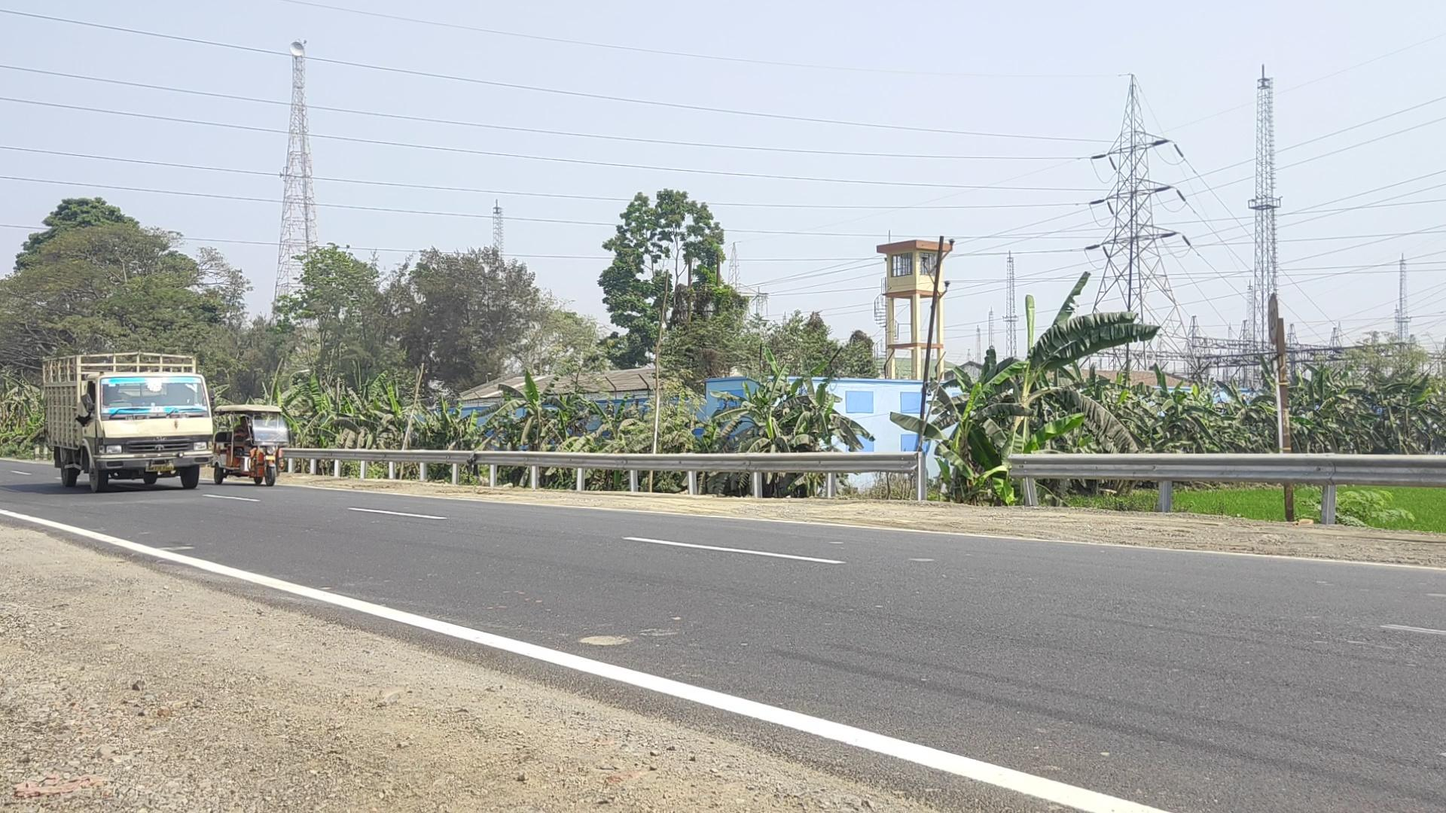Auto: (212, 404, 290, 487)
truck: (41, 351, 213, 493)
